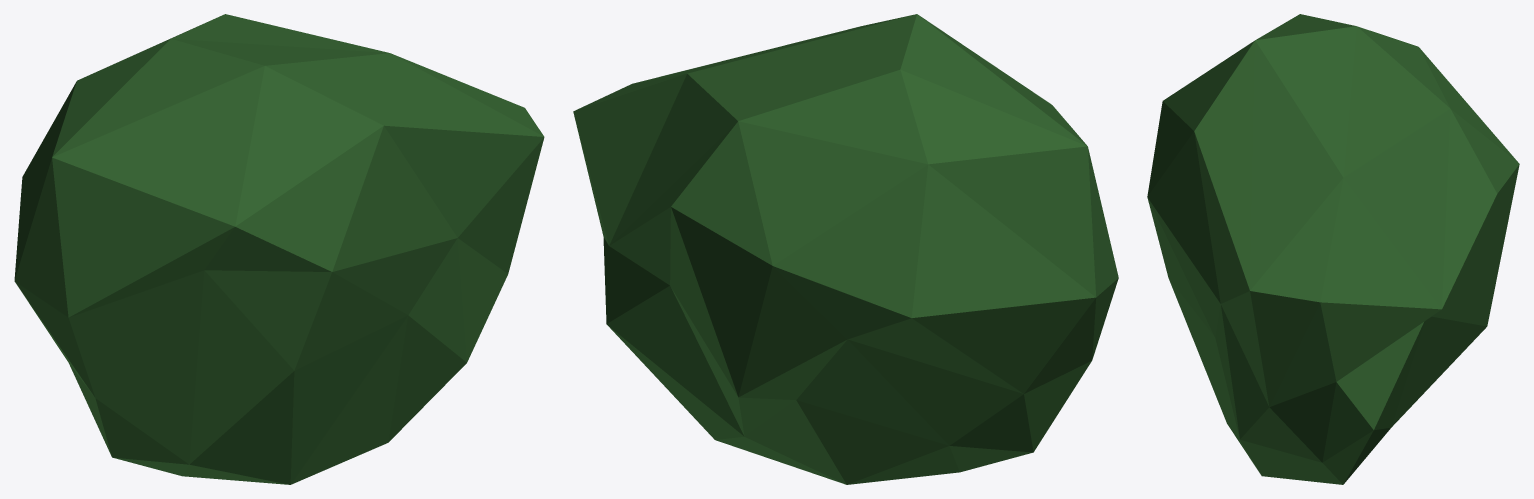
The model's file is Bush04.fbx.
3 views of the same model, side by side, from view 1: azimuth 30°, elevation 25°; view 2: azimuth 150°, elevation 25°; view 3: azimuth 270°, elevation 25° (orthographic). The views are drawn at different scales.
Parts seen in each view (by area): view 1: Bush04; view 2: Bush04; view 3: Bush04.
Part boxes in pixels (left/top/right/bottom): Bush04: left=14, top=14, right=544, bottom=484; Bush04: left=573, top=14, right=1118, bottom=484; Bush04: left=1147, top=14, right=1519, bottom=484.
Size of the model in its own units: 2.81 by 1.94 by 2.18.
